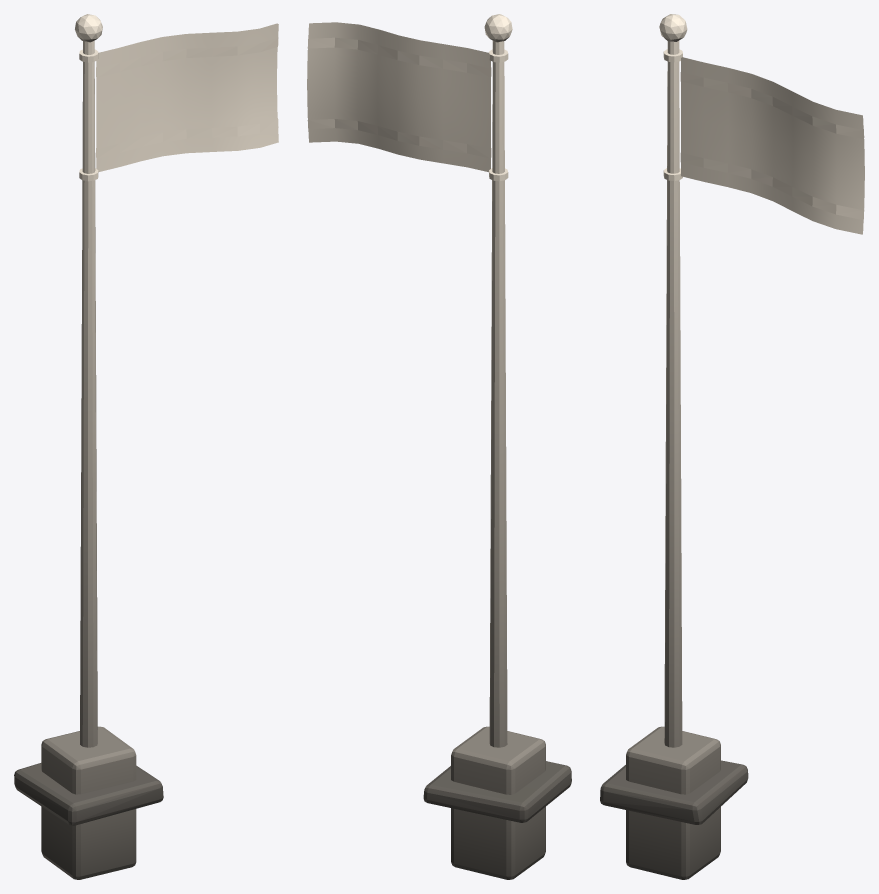
Rendered from SM_VK_Banner_Pole.fbx.
3 renders of one model, left to right at view 1: azimuth 30°, elevation 25°; view 2: azimuth 150°, elevation 25°; view 3: azimuth 330°, elevation 25°, orthographic.
Visible parts, largest first — view 1: SM_VK_Banner_Pole.001; view 2: SM_VK_Banner_Pole.001; view 3: SM_VK_Banner_Pole.001.
Boxes of the visible parts, bbox=[...] form: SM_VK_Banner_Pole.001: bbox=[14, 14, 278, 879]; SM_VK_Banner_Pole.001: bbox=[307, 14, 571, 879]; SM_VK_Banner_Pole.001: bbox=[600, 14, 864, 879].
Size of the model in its own units: 2.13 by 7.14 by 0.9067.
